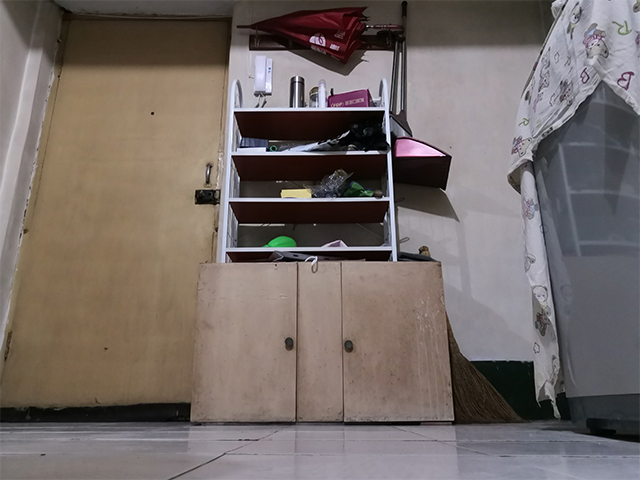cabinet: (190, 261, 458, 427)
